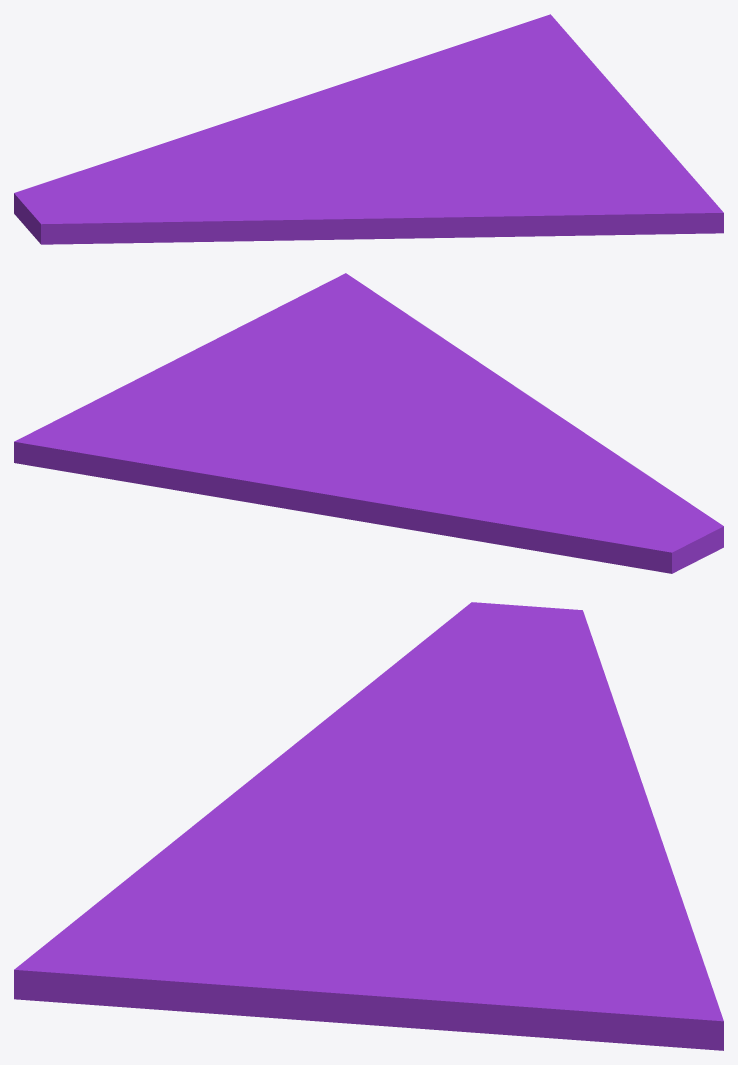
File: StairsStep_36.fbx
The picture shows the model from 3 angles, top to bottom: view 1: azimuth 30°, elevation 25°; view 2: azimuth 150°, elevation 25°; view 3: azimuth 270°, elevation 25°; orthographic projection. The views are drawn at different scales.
Parts seen in each view (by area): view 1: StairsStep_36; view 2: StairsStep_36; view 3: StairsStep_36.
Part boxes in pixels (x1,y1,x2,y2): StairsStep_36: (14,14,723,244); StairsStep_36: (14,273,723,573); StairsStep_36: (14,602,723,1050).
Bounding box in the file's own units: 546 × 17.94 × 391.
